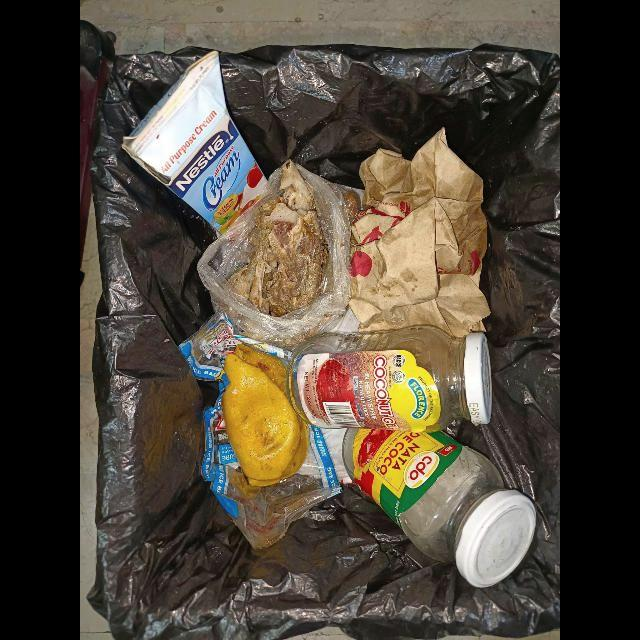glass_bottle: (342, 428, 537, 589), (288, 326, 492, 432)
left_over_food: (229, 160, 330, 318)
paper: (348, 128, 491, 339)
plastic_bag: (178, 313, 342, 551), (197, 160, 351, 348)
